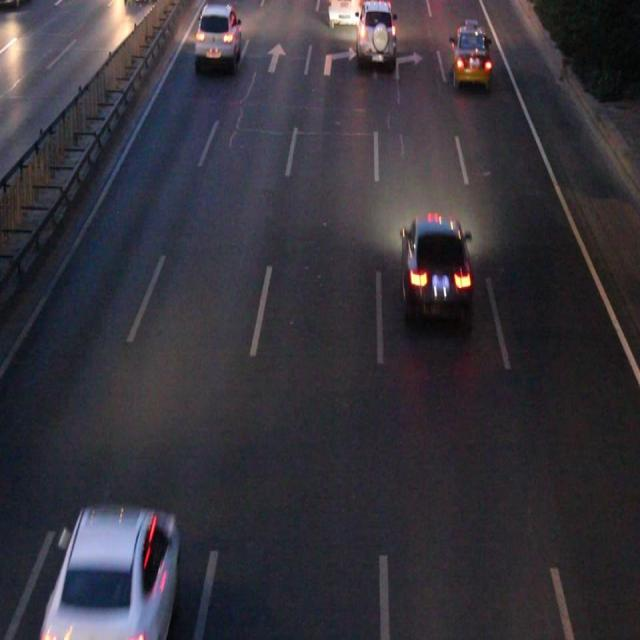car: (53, 506, 177, 640), (400, 217, 469, 322), (195, 8, 239, 67), (356, 1, 394, 61), (449, 30, 488, 79)
truck: (327, 1, 361, 25)
